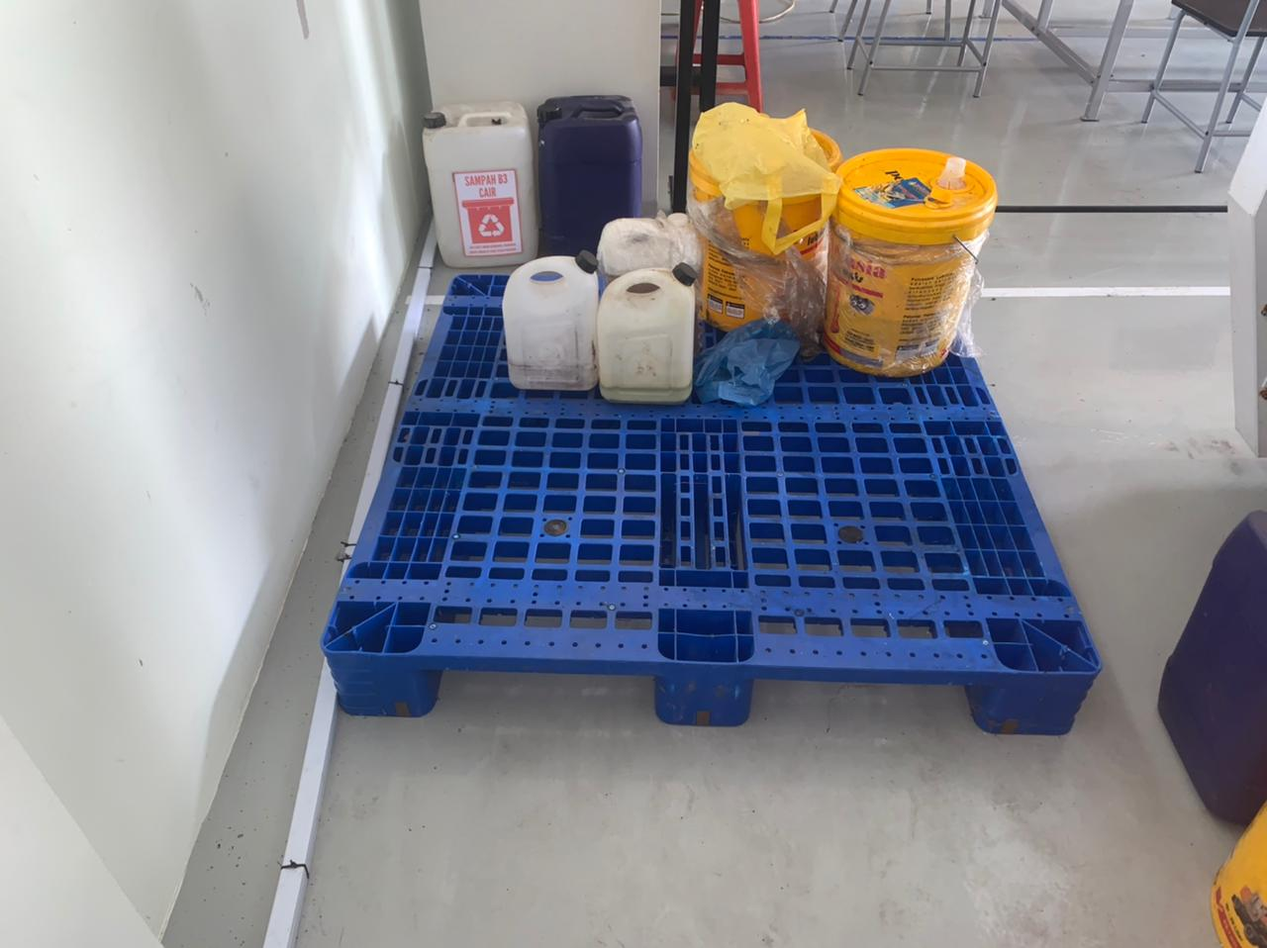block: (982, 671, 1093, 740), (652, 662, 758, 731), (323, 645, 424, 715)
front: (325, 646, 1103, 739)
hole pallet: (744, 677, 994, 726), (426, 667, 659, 718)
